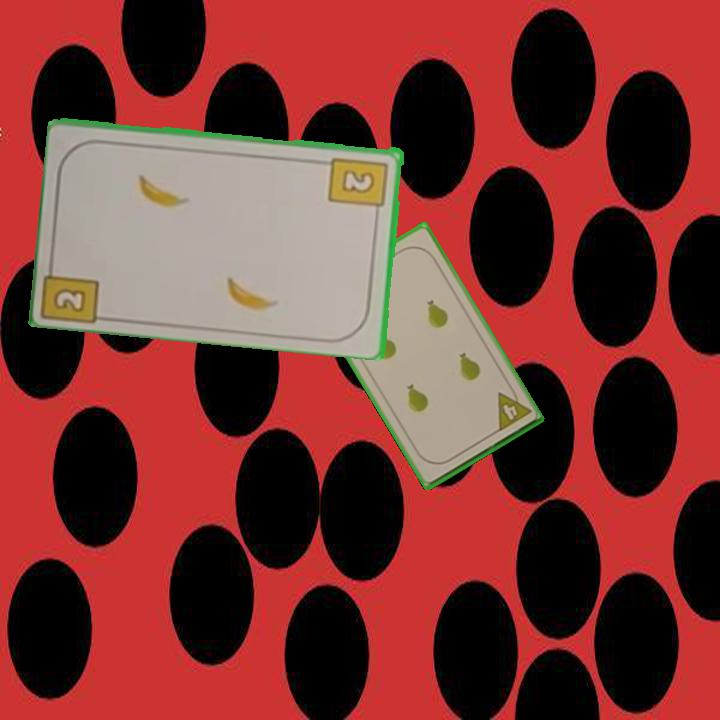2b: (41, 254, 103, 324), (326, 153, 391, 219)
4p: (493, 383, 534, 435)
